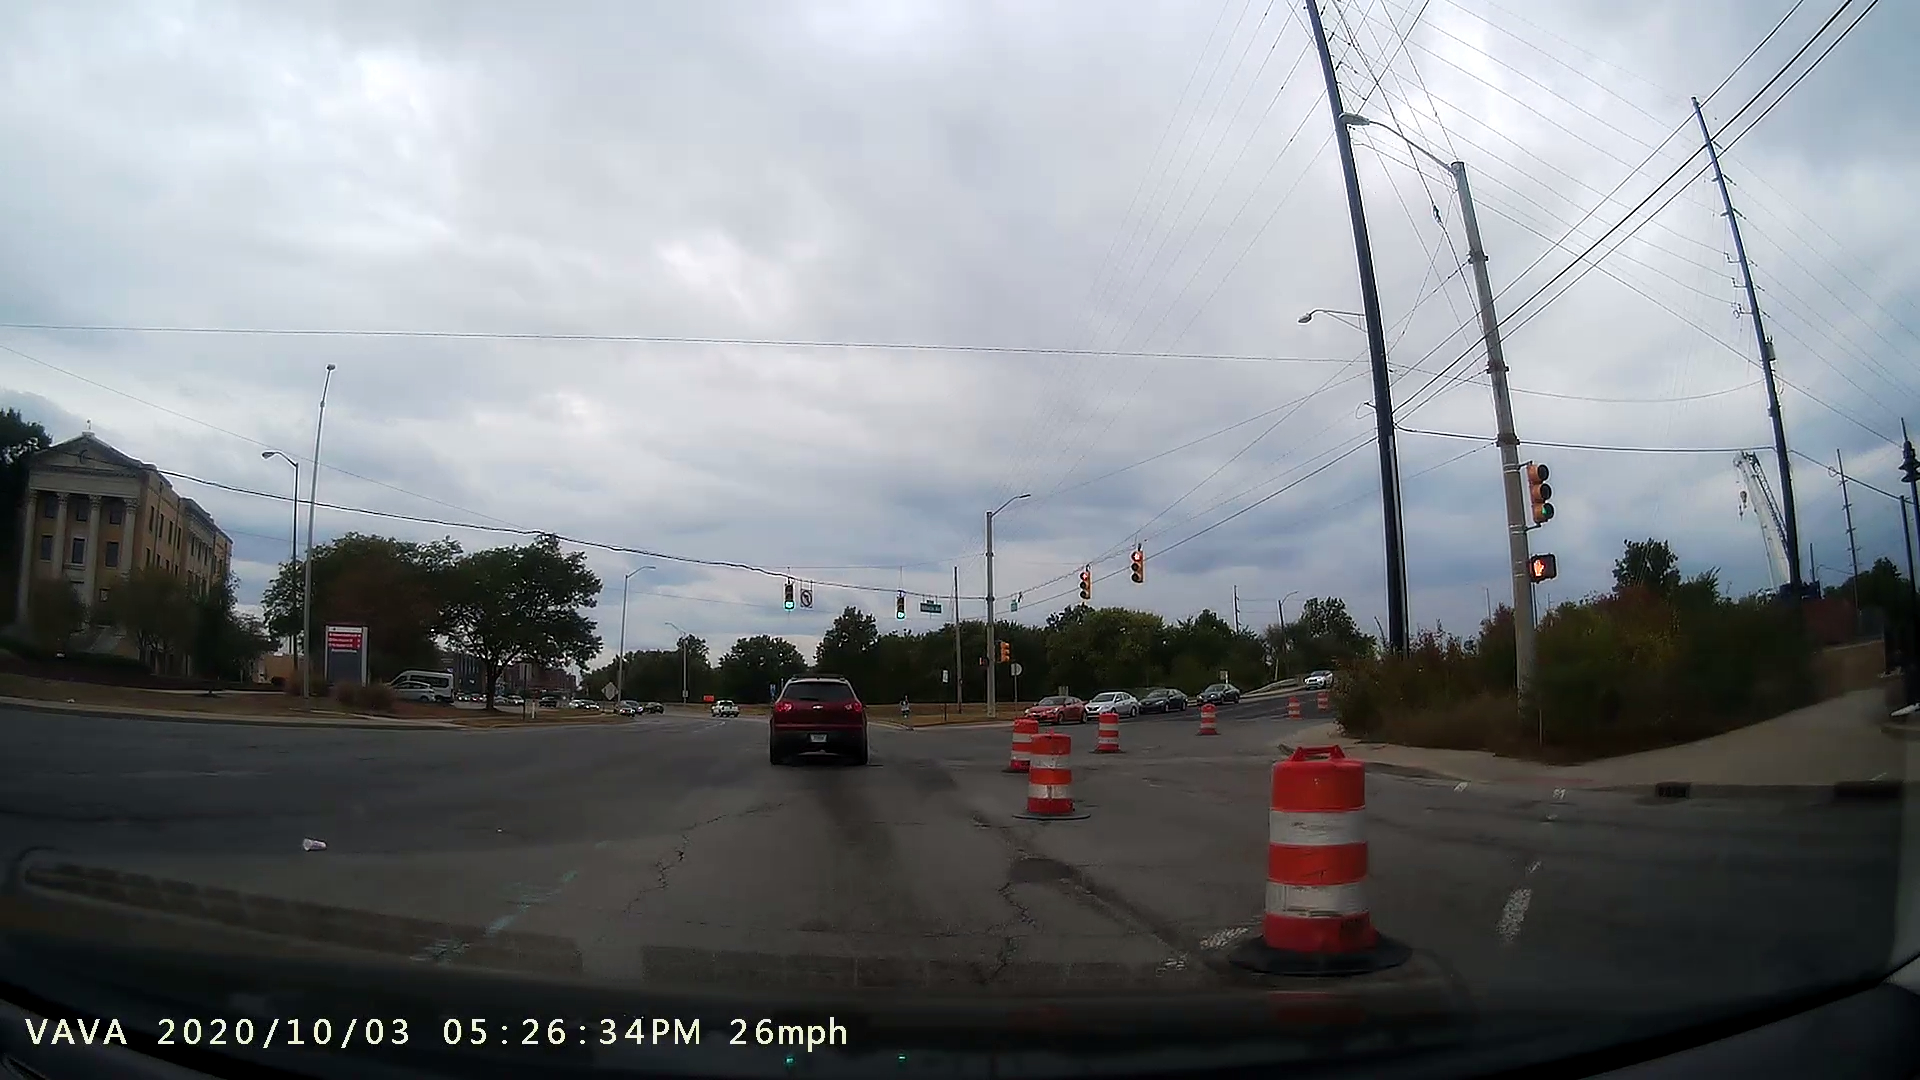const_barrel: (1216, 745, 1416, 978), (1009, 727, 1096, 825), (1197, 688, 1218, 738)
